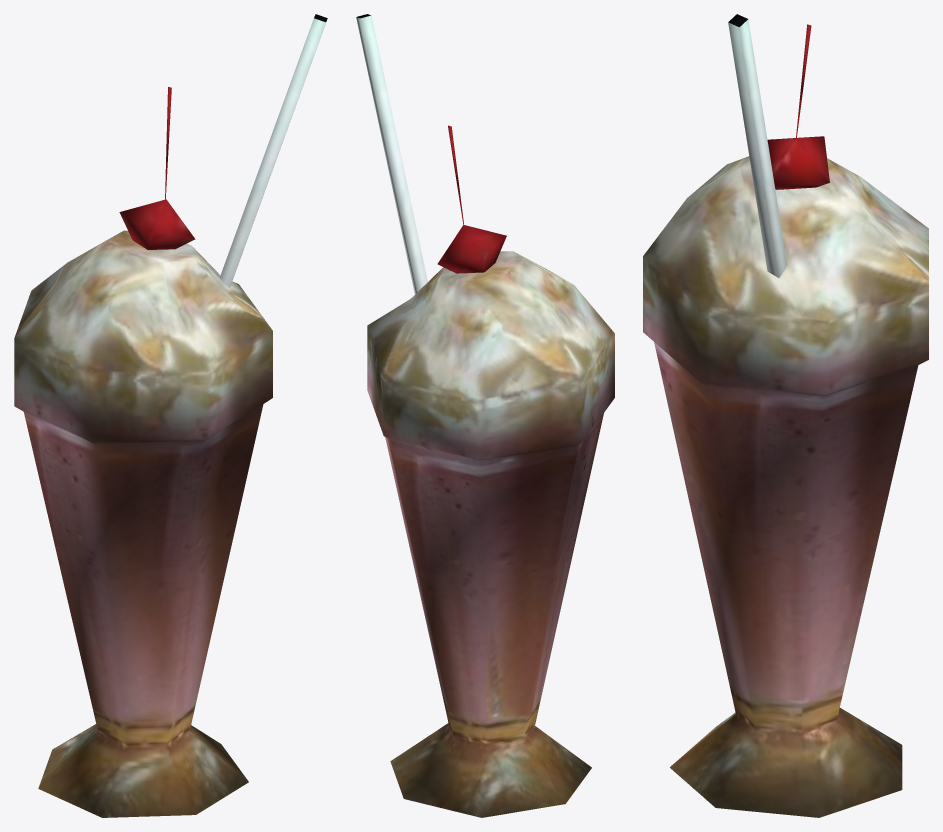
The model's file is Milk_shake.fbx.
3 renders of one model, left to right at view 1: azimuth 30°, elevation 25°; view 2: azimuth 150°, elevation 25°; view 3: azimuth 270°, elevation 25°, orthographic. The views are drawn at different scales.
Parts seen in each view (by area): view 1: Milk_shake; view 2: Milk_shake; view 3: Milk_shake.
Boxes of the visible parts, x1,y1,x2,y2 form: Milk_shake: (14,14,327,817); Milk_shake: (356,14,614,817); Milk_shake: (643,14,928,817).
Size of the model in its own units: 14.2 by 36.46 by 11.31.
